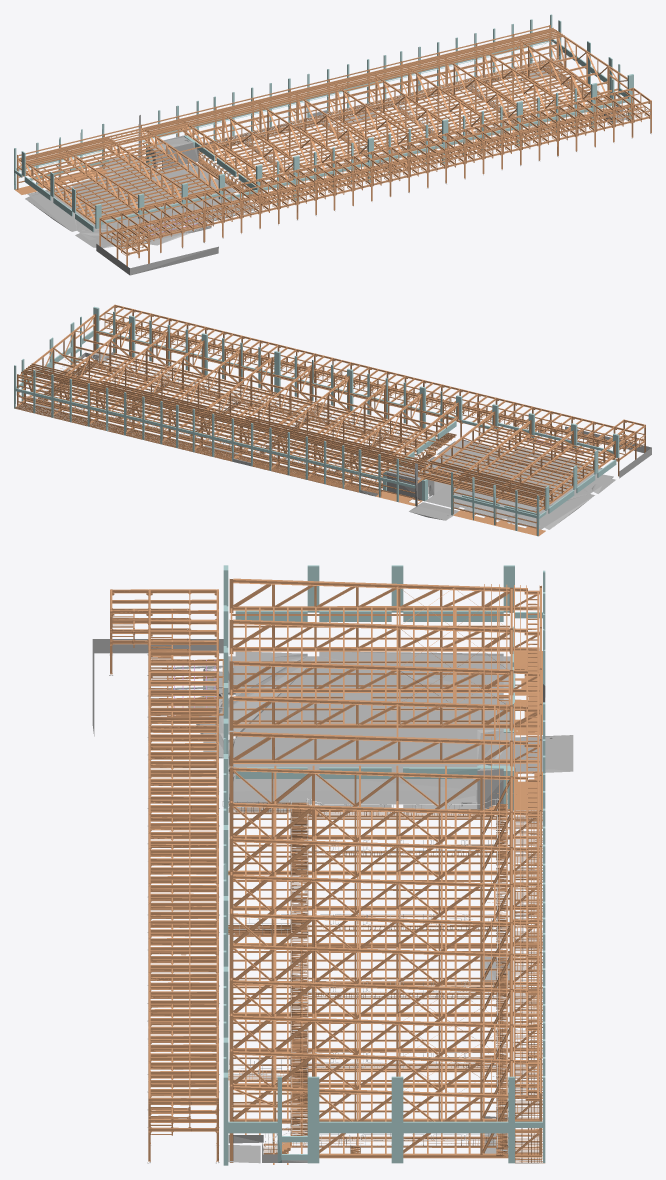
The model's file is structure-4-3f.glb.
3 views of the same model, one above another, from view 1: azimuth 30°, elevation 25°; view 2: azimuth 150°, elevation 25°; view 3: azimuth 270°, elevation 25° (orthographic). The views are drawn at different scales.
Bounding box in the file's own units: 104 × 8.4 × 41.26.
